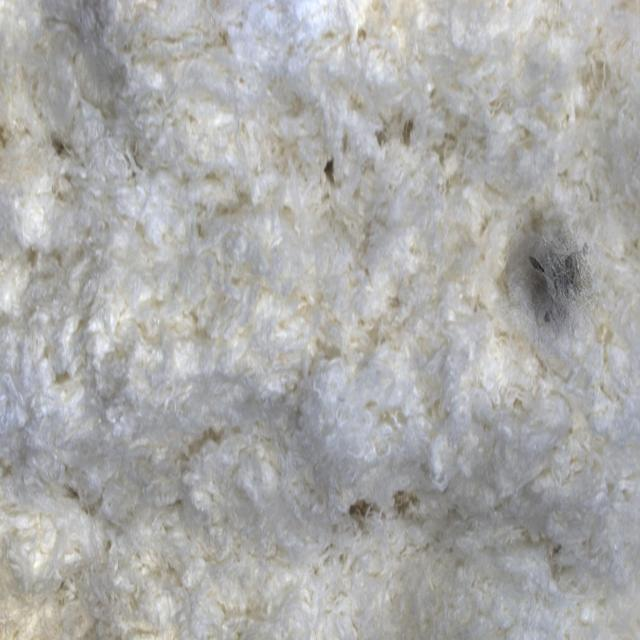dust: (444, 171, 634, 365)
